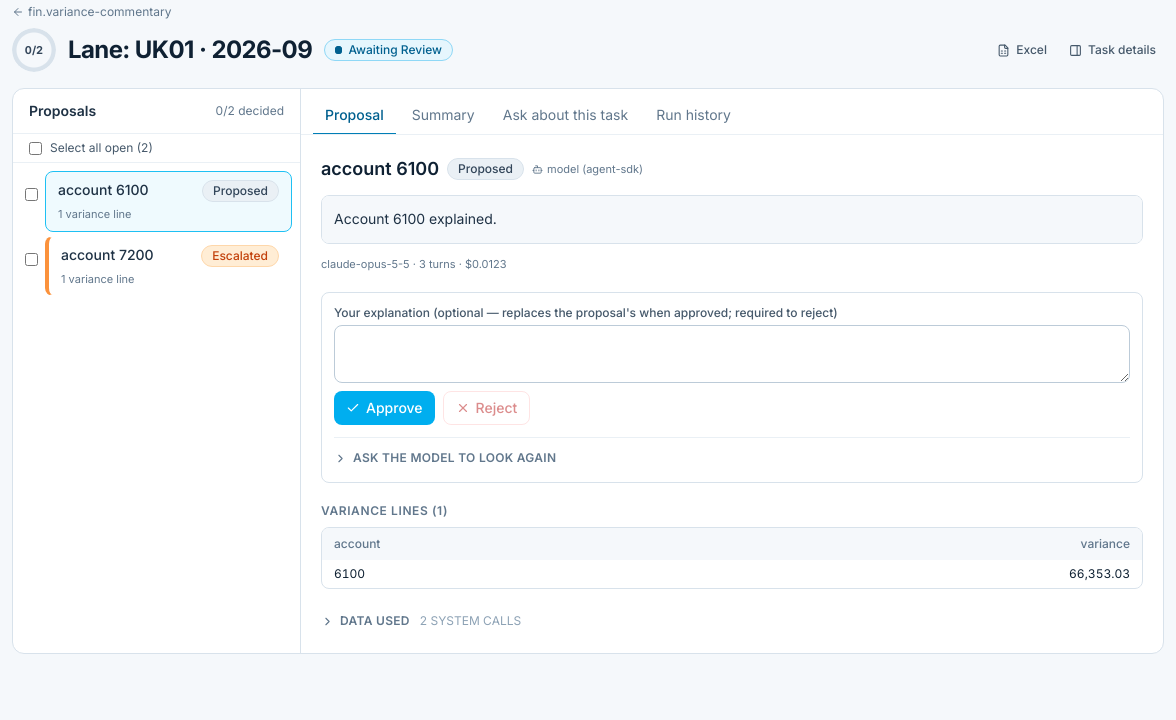
it: TaskWorkspace › approving an escalated group needs the reviewer's own words; rejecting always does
The image size is (1176, 720).
Click the button "account 7200 escalated 1 variance line".
click(168, 266)  # box [45,236,292,296]
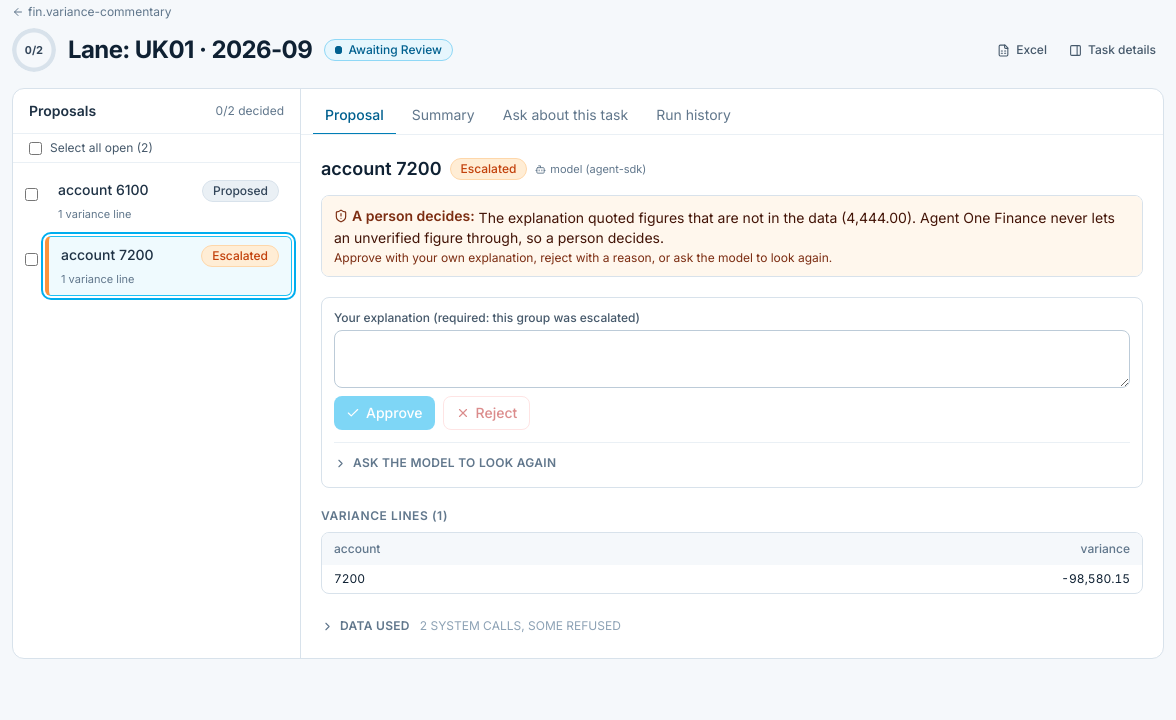
expect the button "Reject" is disabled: met, box [443,396,530,430]
expect the button "Approve" is disabled: met, box [334,396,435,430]
Type "Accrual reversal" into the text box labelled "Your explanation (required: this group was escalated)".
click(732, 359); type("Accrual reversal")  # box [334,330,1130,388]
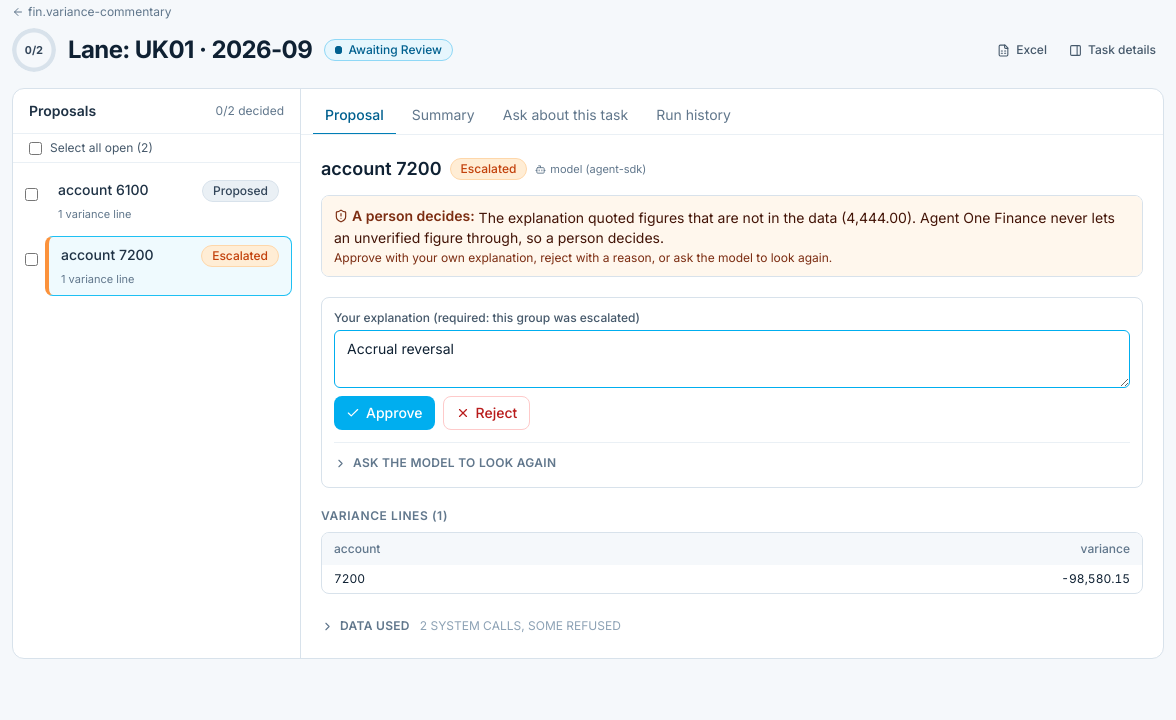
expect the button "Approve" is enabled: met, box [334,396,435,430]
